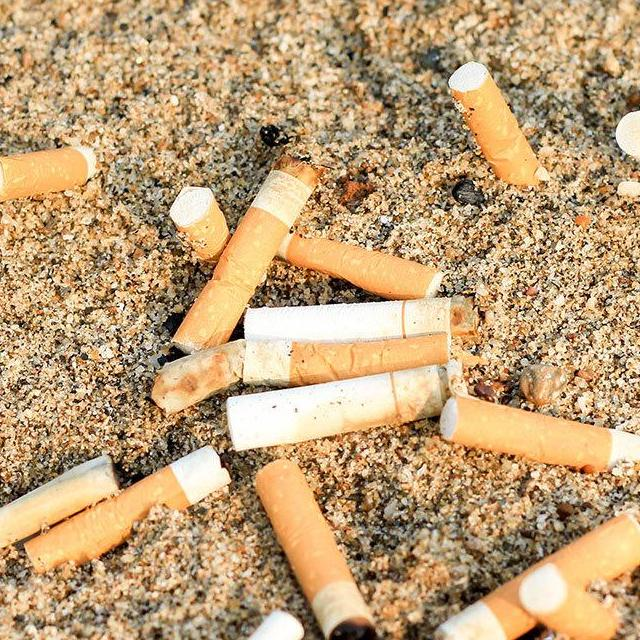Cigarette Butt: (169, 152, 327, 363), (20, 441, 233, 582), (427, 510, 640, 640), (224, 357, 470, 456), (252, 458, 381, 640), (437, 390, 640, 480), (0, 450, 129, 577), (236, 324, 454, 393), (239, 289, 485, 350), (446, 59, 554, 196), (274, 229, 445, 304), (146, 337, 259, 419), (515, 560, 626, 640), (0, 142, 108, 209), (167, 182, 233, 266)
